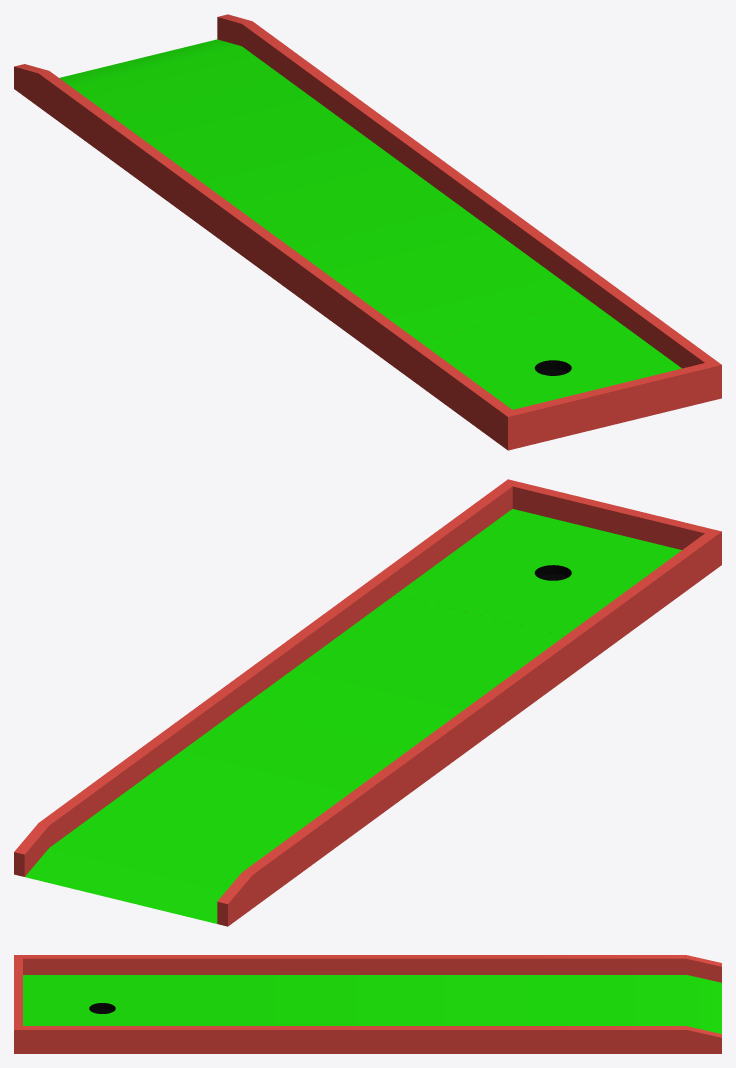
The model's file is Course1.glb.
The picture shows the model from 3 angles, top to bottom: view 1: azimuth 30°, elevation 25°; view 2: azimuth 150°, elevation 25°; view 3: azimuth 270°, elevation 25°; orthographic projection. The views are drawn at different scales.
Visible parts, largest first — view 1: Course1; view 2: Course1; view 3: Course1.
Boxes of the visible parts, x1,y1,x2,y2 form: Course1: (14, 14, 721, 450); Course1: (14, 479, 721, 926); Course1: (14, 955, 721, 1053).
Bounding box in the file's own units: 1 × 0.1499 × 4.
